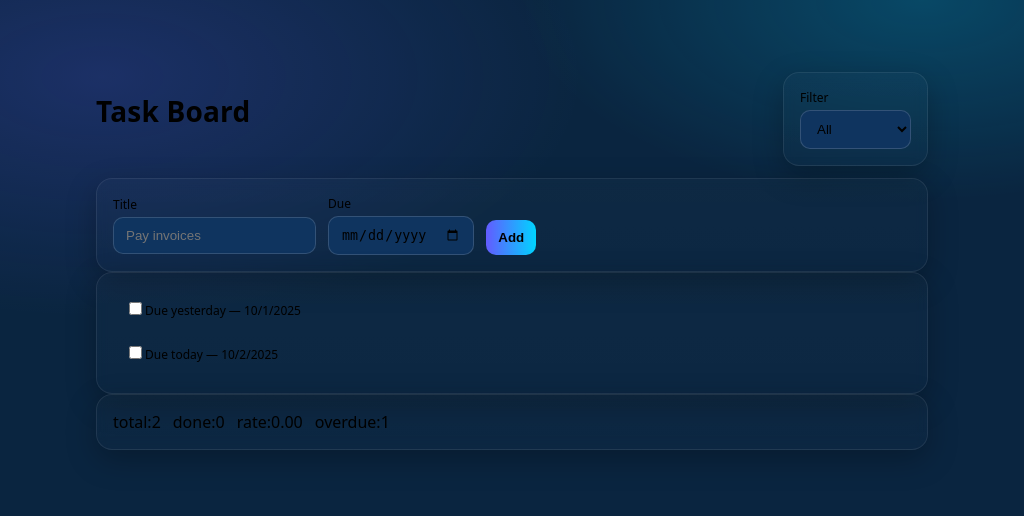
it: App integration › adds a task and filters by completed correctly
In the field with test id "task-title-input": (214, 236) [113,217,316,254], type "New Task"
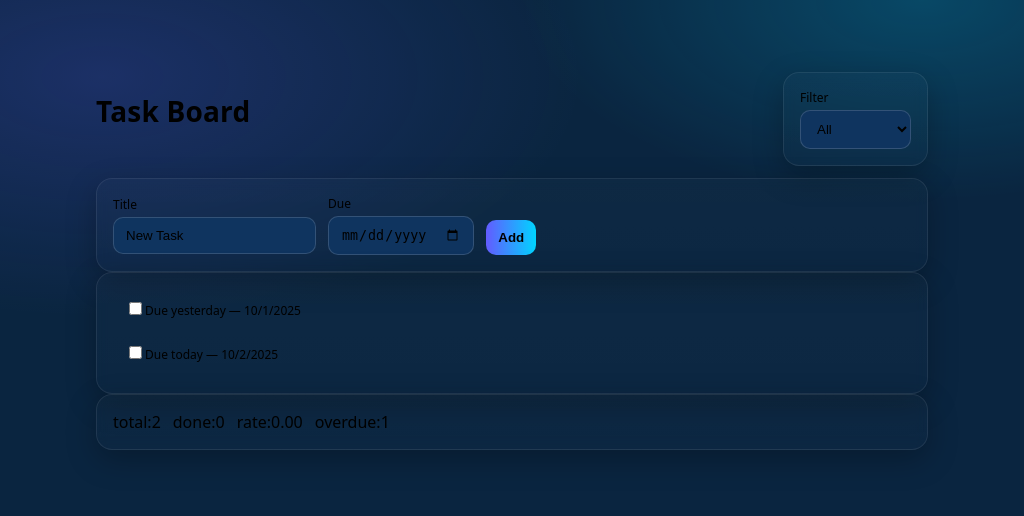
In the date field with test id "task-date-input": (401, 236) [328,216,474,255], type "2025-10-05"
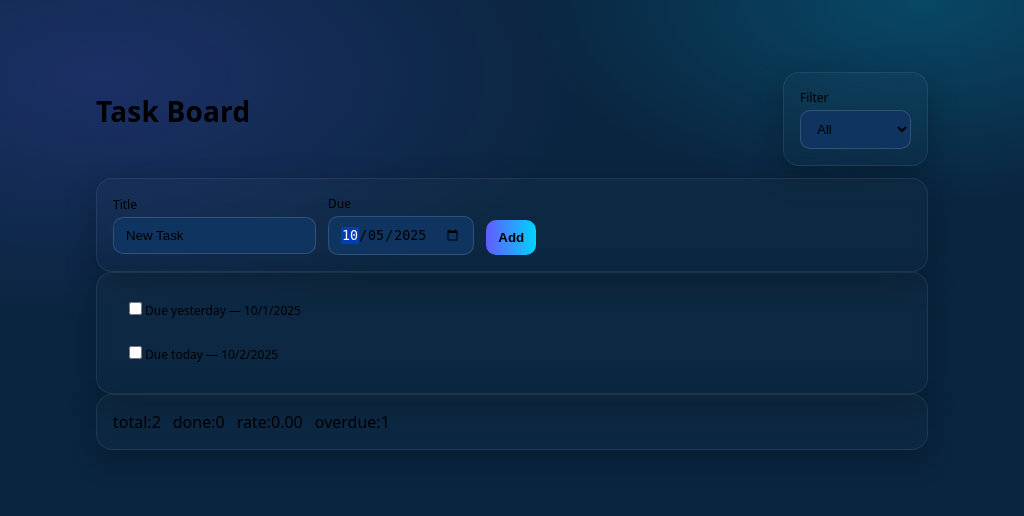
Click the button "Add": (511, 238) [486,220,536,255]
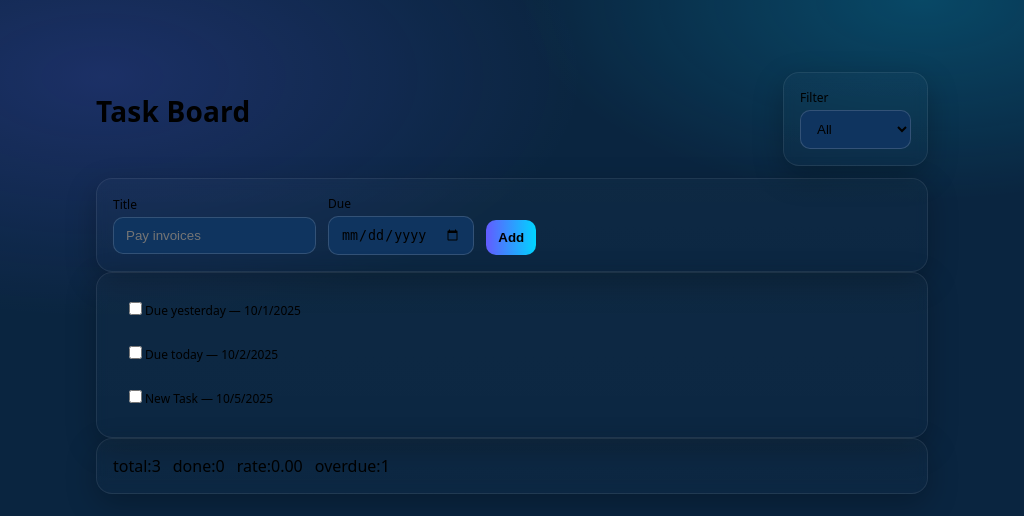
Click the checkbox labelled "New Task — 10/5/2025": (136, 397) [129,390,142,403]
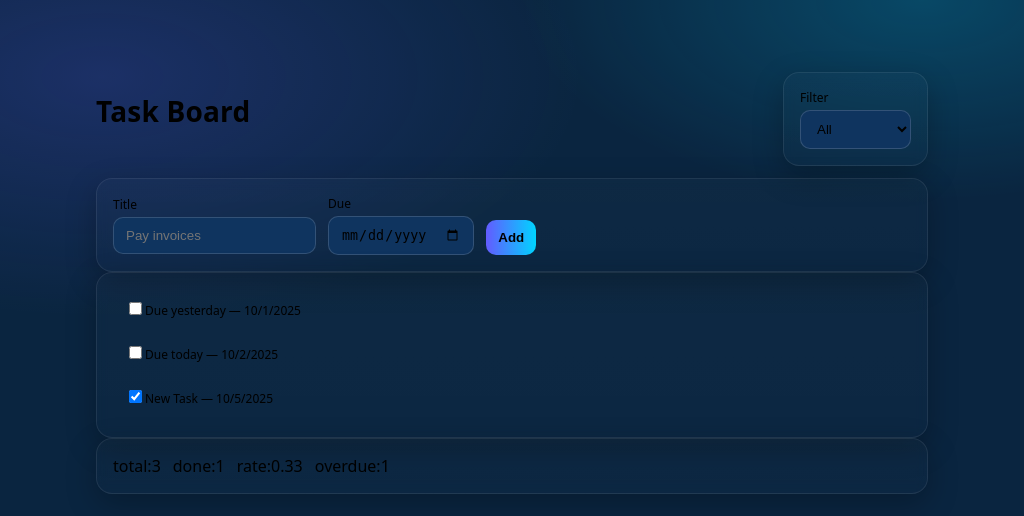
Select "Completed" in the dropdown with test id "filter-select": (856, 130) [800,110,911,149]
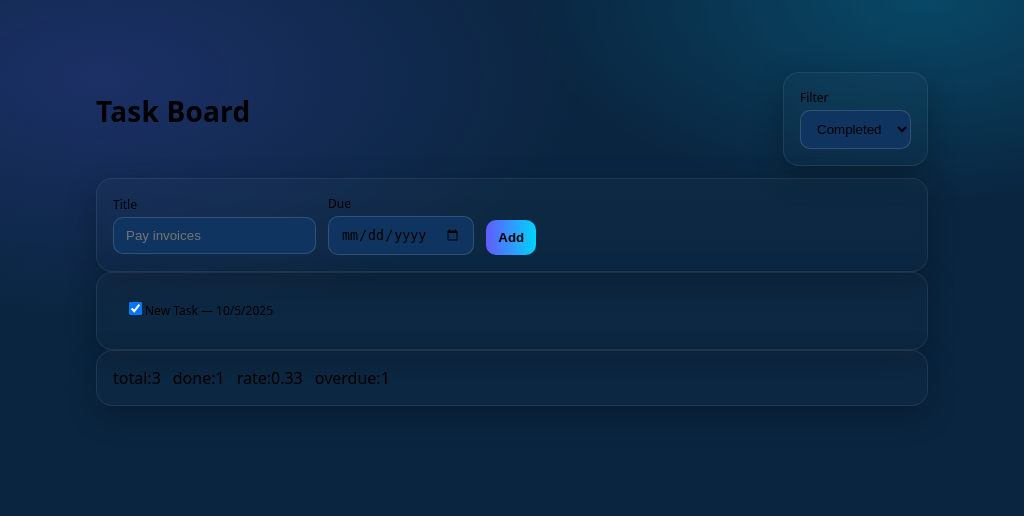
Check: the element named "stats" shows "rate:0.33", box [96,350,928,406]
Check: the number of checkboxes is 1, box [129,302,142,315]
